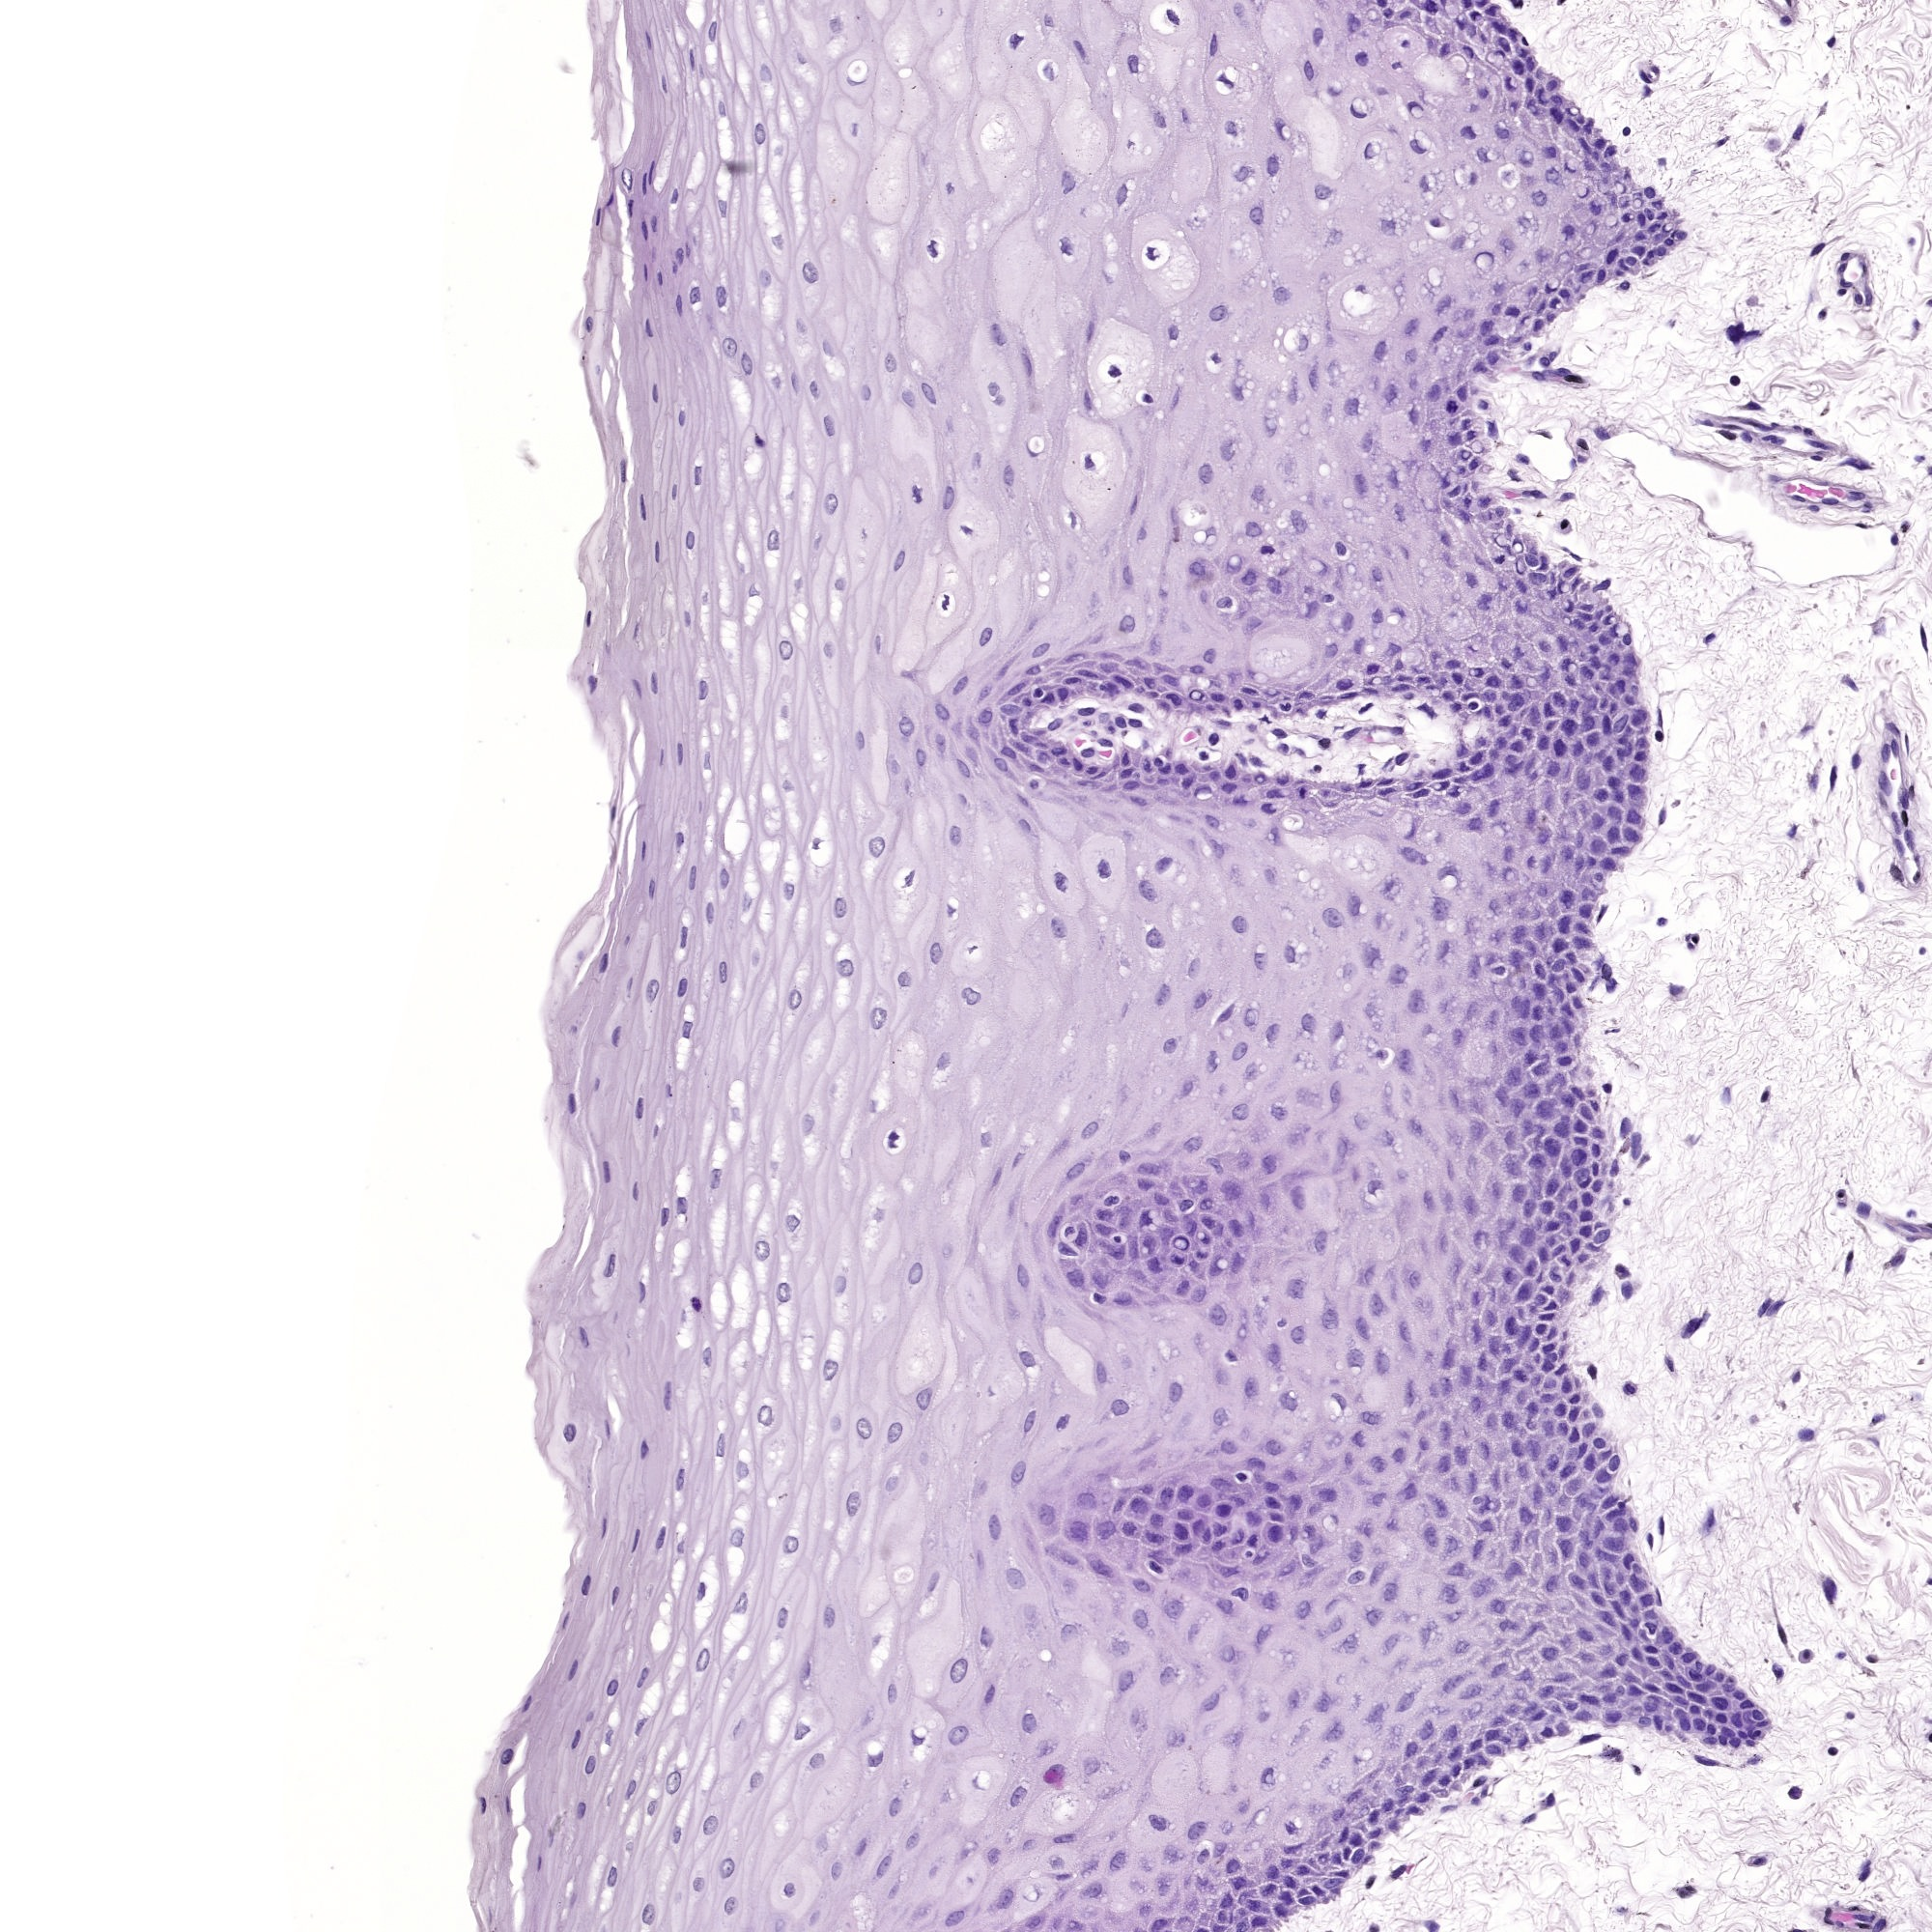epithelial: (950, 1916, 961, 1921), (656, 1537, 663, 1545), (1157, 117, 1162, 126), (1053, 1221, 1058, 1230), (1679, 1714, 1684, 1723), (931, 1580, 936, 1589), (1548, 152, 1555, 157), (1357, 481, 1362, 488), (1514, 699, 1522, 704), (1143, 890, 1150, 895), (1539, 989, 1545, 996), (1525, 1235, 1532, 1240), (1476, 1545, 1479, 1555), (1474, 1589, 1481, 1594), (1207, 1698, 1212, 1706), (1286, 1562, 1293, 1568), (1329, 1622, 1334, 1629), (1005, 1895, 1010, 1902), (982, 717, 991, 720), (1162, 993, 1166, 1001), (1122, 1403, 1125, 1412), (1522, 1391, 1525, 1399), (1573, 1410, 1576, 1419), (1587, 702, 1592, 708), (1539, 929, 1545, 934), (1576, 1090, 1582, 1095), (1550, 1187, 1555, 1192), (1594, 1184, 1599, 1189), (1546, 1205, 1552, 1210), (1016, 1154, 1021, 1159), (566, 1430, 571, 1435), (1060, 1419, 1065, 1424), (1516, 1445, 1522, 1451), (1152, 1537, 1157, 1543), (1182, 1514, 1187, 1520), (1162, 1890, 1168, 1895), (1334, 1730, 1339, 1736), (1279, 1909, 1284, 1914), (1371, 1812, 1376, 1817), (1352, 403, 1355, 410), (1090, 324, 1093, 331), (1568, 724, 1571, 731), (1619, 722, 1622, 729), (1527, 764, 1530, 771), (1159, 865, 1166, 869), (1529, 1085, 1532, 1092), (1097, 1276, 1100, 1283), (1097, 1368, 1100, 1375), (1270, 1445, 1274, 1453), (1522, 1288, 1525, 1295), (1422, 1440, 1426, 1447), (1583, 1713, 1591, 1716), (1507, 1622, 1514, 1626), (1270, 1499, 1274, 1506), (1403, 1698, 1407, 1706), (504, 1753, 508, 1760), (1272, 161, 1274, 172), (1571, 124, 1576, 127), (1539, 196, 1543, 202), (1541, 304, 1545, 310), (1442, 301, 1445, 306), (1279, 292, 1284, 295), (1026, 361, 1030, 366), (718, 294, 722, 299), (648, 329, 651, 334), (1573, 582, 1578, 586), (1504, 718, 1509, 722), (1474, 755, 1477, 761), (1440, 773, 1445, 777), (985, 632, 989, 637), (985, 686, 989, 692), (1001, 671, 1007, 674), (1016, 686, 1019, 692), (1238, 701, 1242, 706), (1187, 778, 1191, 784), (1007, 752, 1012, 755), (1122, 759, 1127, 763), (1198, 1000, 1201, 1005), (1290, 952, 1293, 957), (1415, 784, 1421, 787), (1582, 927, 1587, 931), (1575, 1001, 1580, 1005), (1568, 984, 1571, 989), (1534, 1031, 1539, 1035), (1539, 1067, 1545, 1070), (1566, 1097, 1571, 1100), (1550, 1145, 1553, 1150), (1594, 1146, 1598, 1152), (1534, 1161, 1539, 1164), (1583, 1180, 1587, 1185), (1516, 1191, 1520, 1196), (1511, 1166, 1514, 1171), (1587, 1214, 1591, 1219), (1601, 1235, 1605, 1240), (1447, 1196, 1451, 1201), (1415, 1125, 1419, 1131), (1277, 1111, 1283, 1115), (1070, 1169, 1076, 1173), (1102, 1214, 1108, 1217), (1159, 1198, 1162, 1203), (1207, 1223, 1212, 1226), (793, 1223, 796, 1228), (741, 1468, 747, 1472), (1384, 1357, 1387, 1362), (1560, 1428, 1566, 1431), (1560, 1523, 1566, 1527), (1499, 1605, 1502, 1610), (1667, 1635, 1670, 1640), (1529, 1629, 1534, 1633), (1274, 1532, 1277, 1537), (1237, 1499, 1240, 1504), (1077, 1529, 1081, 1534), (1449, 1683, 1453, 1688), (1375, 1711, 1378, 1716), (616, 1589, 617, 1599), (697, 1879, 701, 1884), (911, 1836, 915, 1842), (883, 1859, 886, 1865), (1290, 1826, 1293, 1831), (1479, 1759, 1484, 1762), (1720, 1739, 1725, 1743), (1748, 1741, 1753, 1744), (1438, 904, 1440, 913), (1555, 962, 1564, 964), (665, 1210, 667, 1219), (717, 1173, 718, 1182), (1016, 1468, 1017, 1477), (764, 73, 768, 76), (644, 228, 648, 232), (1065, 244, 1069, 248), (1322, 191, 1325, 195), (1384, 4, 1387, 7), (1490, 9, 1493, 12), (1647, 191, 1651, 195), (1583, 274, 1587, 278), (1562, 292, 1566, 295), (1537, 320, 1539, 327), (1219, 311, 1223, 315), (998, 331, 1000, 338), (908, 400, 911, 403), (890, 363, 893, 366), (828, 421, 830, 428), (824, 343, 826, 350), (916, 494, 920, 497), (1461, 513, 1465, 517), (1568, 571, 1571, 575), (1596, 660, 1599, 663), (1585, 669, 1589, 672), (1629, 660, 1633, 663), (1456, 676, 1460, 679), (1509, 759, 1511, 766), (1553, 764, 1555, 771), (1583, 778, 1585, 786), (1640, 741, 1644, 745), (939, 709, 943, 713), (1251, 690, 1254, 694), (1127, 771, 1131, 775), (1129, 782, 1132, 786), (591, 683, 593, 690), (679, 750, 681, 757), (1054, 925, 1058, 929), (1336, 918, 1339, 922), (1265, 809, 1269, 812), (1412, 853, 1415, 856), (1398, 973, 1401, 977), (1530, 862, 1534, 865), (1548, 860, 1550, 867), (1568, 849, 1569, 856), (1629, 832, 1633, 835), (1580, 941, 1587, 943), (1605, 970, 1606, 977), (1518, 1005, 1522, 1008), (1560, 1047, 1562, 1054), (1552, 1224, 1555, 1228), (1456, 1095, 1458, 1102), (1267, 1162, 1270, 1166), (1297, 1192, 1299, 1200), (1215, 1162, 1219, 1166), (1192, 1143, 1196, 1146), (616, 1031, 617, 1039), (913, 1270, 916, 1274), (1072, 1276, 1076, 1279), (1115, 1253, 1118, 1256), (1154, 1265, 1157, 1269), (1511, 1253, 1514, 1256), (1564, 1258, 1568, 1261), (1476, 1329, 1477, 1336), (1509, 1322, 1511, 1329), (1539, 1327, 1543, 1330), (1552, 1306, 1555, 1309), (1569, 1276, 1573, 1279), (1571, 1399, 1578, 1401), (1447, 1384, 1449, 1391), (1417, 1412, 1421, 1415), (1490, 1424, 1493, 1428), (1571, 1484, 1575, 1488), (1562, 1500, 1566, 1504), (1706, 1683, 1709, 1686), (1566, 1674, 1569, 1677), (1546, 1688, 1550, 1691), (1587, 1698, 1591, 1702), (1744, 1702, 1748, 1706), (1437, 1504, 1440, 1507), (1391, 1520, 1392, 1527), (1355, 1548, 1357, 1555), (1288, 1472, 1290, 1479), (1100, 1529, 1108, 1530), (1129, 1527, 1131, 1534), (1261, 1633, 1265, 1637), (1270, 1599, 1274, 1603), (993, 1520, 994, 1527), (584, 1583, 586, 1591), (646, 1913, 648, 1920), (755, 1778, 759, 1782), (893, 1891, 897, 1895), (991, 1852, 993, 1859), (1116, 1859, 1118, 1867), (1157, 1821, 1161, 1824), (1159, 1923, 1162, 1927), (1300, 1891, 1304, 1895), (1336, 1812, 1339, 1815), (1426, 1775, 1430, 1778), (1490, 1750, 1497, 1752), (1725, 1730, 1729, 1734), (810, 269, 812, 274), (1253, 214, 1258, 216), (1307, 67, 1309, 73), (1555, 113, 1557, 119), (1654, 225, 1656, 230), (1624, 264, 1626, 269), (1486, 324, 1488, 329), (747, 361, 748, 366), (695, 292, 697, 297), (655, 391, 656, 396), (947, 497, 948, 502), (1007, 474, 1012, 476), (1530, 561, 1536, 563), (1545, 563, 1546, 568), (1573, 704, 1575, 709), (1532, 713, 1534, 718), (1514, 679, 1516, 685), (1468, 695, 1474, 697), (1606, 722, 1608, 727), (1576, 747, 1578, 752), (1559, 743, 1560, 748), (1635, 773, 1637, 778), (1127, 623, 1129, 628), (906, 674, 911, 676), (1231, 784, 1233, 789), (1021, 748, 1026, 750), (603, 959, 605, 964), (683, 985, 685, 991), (957, 833, 959, 839), (1060, 879, 1062, 885), (1384, 782, 1389, 784), (1419, 793, 1424, 794), (1474, 823, 1476, 828), (1592, 847, 1594, 853), (1545, 1109, 1550, 1111), (1123, 1154, 1125, 1159), (1099, 1231, 1104, 1233), (1074, 1196, 1076, 1201), (609, 1265, 610, 1270), (893, 1430, 895, 1435), (1251, 1389, 1253, 1394), (1378, 1304, 1380, 1309), (1477, 1263, 1479, 1269), (1529, 1265, 1534, 1267), (1552, 1274, 1557, 1276), (1509, 1274, 1511, 1279), (1483, 1361, 1484, 1366), (1522, 1376, 1527, 1378), (1548, 1364, 1550, 1369), (1449, 1357, 1451, 1362), (1359, 1440, 1361, 1445), (1398, 1456, 1403, 1458), (1566, 1468, 1568, 1474), (1523, 1468, 1525, 1474), (1514, 1541, 1516, 1546), (1530, 1536, 1532, 1541), (1566, 1546, 1568, 1552), (1274, 1516, 1279, 1518), (1253, 1514, 1254, 1520), (1184, 1490, 1185, 1495), (1086, 1499, 1088, 1504), (1293, 1697, 1295, 1702), (1010, 1573, 1012, 1578), (980, 1559, 982, 1564), (984, 1637, 985, 1642), (679, 1477, 681, 1483), (612, 1875, 614, 1881), (955, 1670, 957, 1675), (1063, 1838, 1069, 1840), (1258, 1921, 1263, 1923), (1267, 1890, 1272, 1891), (1288, 1849, 1293, 1851), (1454, 1750, 1456, 1755), (1454, 1769, 1456, 1775), (648, 39, 649, 42), (761, 131, 763, 134), (835, 21, 837, 25), (649, 172, 651, 175), (598, 216, 600, 219), (646, 271, 648, 274), (1131, 60, 1132, 64), (1184, 115, 1185, 119), (1240, 173, 1244, 175), (1120, 195, 1122, 198), (1352, 23, 1355, 25), (1387, 226, 1389, 230), (1405, 42, 1408, 44), (1405, 14, 1408, 16), (1444, 48, 1445, 51), (1468, 131, 1470, 134), (1534, 104, 1536, 108), (1585, 145, 1587, 149), (1610, 150, 1614, 152), (1640, 218, 1642, 221), (1661, 214, 1663, 218), (1638, 235, 1640, 239), (1619, 271, 1622, 272), (1670, 241, 1672, 244), (1679, 235, 1683, 237), (1553, 299, 1555, 303), (1511, 310, 1514, 311), (1438, 333, 1440, 336), (1389, 393, 1392, 395), (1433, 391, 1435, 395), (1463, 395, 1465, 398), (1086, 398, 1088, 402), (931, 391, 932, 395), (867, 391, 869, 395), (814, 389, 816, 393), (642, 506, 644, 510), (897, 561, 899, 564), (1444, 538, 1445, 541), (1378, 575, 1380, 579), (1348, 617, 1350, 621), (1378, 612, 1380, 616), (1484, 602, 1486, 605), (1520, 586, 1523, 587), (1626, 639, 1628, 642), (1583, 607, 1587, 609), (1583, 616, 1587, 617), (1545, 646, 1546, 649), (1506, 663, 1507, 667), (1603, 702, 1605, 706), (1495, 681, 1497, 685), (1445, 697, 1449, 699), (1552, 722, 1553, 725), (1591, 740, 1592, 743), (1461, 748, 1463, 752), (1622, 741, 1626, 743), (1622, 752, 1626, 754), (1481, 771, 1484, 773), (1039, 649, 1040, 653), (961, 685, 962, 688), (938, 740, 941, 741), (1001, 764, 1003, 768), (973, 732, 975, 736), (1007, 709, 1010, 711), (1026, 701, 1028, 704), (1106, 688, 1108, 692), (1148, 679, 1150, 683), (1162, 702, 1164, 706), (1217, 697, 1221, 699), (1215, 775, 1217, 778), (1162, 768, 1166, 770), (1040, 743, 1042, 747), (1056, 750, 1060, 752), (1042, 755, 1044, 759), (1035, 768, 1039, 770), (1076, 764, 1077, 768), (702, 690, 704, 694), (725, 878, 727, 881), (936, 948, 938, 952), (1083, 780, 1086, 782), (1136, 798, 1139, 800), (1214, 842, 1215, 846), (1194, 968, 1196, 971), (1304, 791, 1306, 794), (1384, 791, 1387, 793), (1371, 955, 1373, 959), (1353, 902, 1355, 906), (1463, 807, 1465, 810), (1522, 915, 1523, 918), (1585, 908, 1587, 911), (1520, 1033, 1522, 1037), (1566, 1058, 1568, 1062), (1587, 1111, 1589, 1115), (1560, 1127, 1562, 1131), (1582, 1141, 1585, 1143), (1578, 1157, 1582, 1159), (1594, 1168, 1596, 1171), (1529, 1205, 1530, 1208), (1509, 1136, 1511, 1139), (1587, 1231, 1589, 1235), (1575, 1244, 1576, 1247), (1431, 1198, 1433, 1201), (1272, 1031, 1274, 1035), (1320, 1240, 1322, 1244), (1088, 1127, 1090, 1131), (1083, 1235, 1085, 1238), (1145, 1166, 1148, 1168), (985, 1138, 987, 1141), (571, 1102, 573, 1106), (922, 1398, 924, 1401), (1122, 1297, 1125, 1299), (1177, 1258, 1180, 1260), (1028, 1421, 1030, 1424), (1177, 1391, 1178, 1394), (1221, 1373, 1223, 1376), (1295, 1286, 1297, 1290), (1330, 1316, 1332, 1320), (1362, 1325, 1364, 1329), (1414, 1276, 1415, 1279), (1405, 1332, 1407, 1336), (1559, 1247, 1562, 1249), (1488, 1316, 1490, 1320), (1525, 1334, 1527, 1338), (1560, 1368, 1562, 1371), (1568, 1387, 1569, 1391), (1560, 1408, 1562, 1412), (1546, 1396, 1548, 1399), (1463, 1373, 1465, 1376), (1511, 1421, 1514, 1422), (1532, 1445, 1534, 1449), (1591, 1460, 1592, 1463), (1548, 1488, 1552, 1490), (1495, 1479, 1497, 1483), (1598, 1525, 1599, 1529), (1583, 1537, 1587, 1539), (1615, 1511, 1617, 1514), (1610, 1500, 1612, 1504), (1647, 1614, 1651, 1615), (1617, 1605, 1619, 1608), (1606, 1583, 1608, 1587), (1608, 1617, 1610, 1621), (1649, 1645, 1652, 1647), (1698, 1665, 1702, 1667), (1695, 1675, 1698, 1677), (1709, 1668, 1711, 1672), (1727, 1688, 1730, 1690), (1548, 1652, 1550, 1656), (1693, 1697, 1697, 1698), (1723, 1702, 1725, 1706), (1720, 1718, 1723, 1720), (1555, 1706, 1557, 1709), (1500, 1667, 1504, 1668), (1430, 1530, 1431, 1534), (1327, 1495, 1330, 1497), (1203, 1499, 1205, 1502), (1136, 1504, 1138, 1507), (1157, 1518, 1161, 1520), (1180, 1534, 1182, 1537), (1200, 1527, 1201, 1530), (1219, 1529, 1221, 1532), (1104, 1568, 1108, 1569), (1141, 1587, 1145, 1589), (1125, 1679, 1127, 1683), (1449, 1589, 1451, 1592), (1062, 1553, 1065, 1555), (801, 1672, 805, 1674), (637, 1536, 639, 1539), (571, 1668, 573, 1672), (527, 1704, 529, 1707), (642, 1674, 644, 1677), (609, 1736, 610, 1739), (579, 1808, 580, 1812), (862, 1844, 863, 1847), (893, 1691, 895, 1695), (1062, 1875, 1065, 1877), (1196, 1831, 1200, 1833), (1240, 1927, 1242, 1930), (1226, 1900, 1230, 1902), (1253, 1904, 1256, 1905), (1286, 1897, 1288, 1900), (1343, 1874, 1346, 1875), (1338, 1856, 1339, 1859), (1373, 1833, 1376, 1835), (1408, 1748, 1412, 1750), (1422, 1729, 1426, 1730), (1474, 1744, 1477, 1746), (1520, 1739, 1522, 1743), (1497, 1723, 1500, 1725), (1698, 1725, 1702, 1727), (1713, 1727, 1714, 1730), (801, 58, 803, 60), (653, 223, 655, 225), (766, 276, 768, 278), (1077, 46, 1079, 48), (1230, 127, 1231, 129), (1318, 35, 1320, 37), (1389, 12, 1391, 14), (1431, 5, 1433, 7), (1472, 12, 1474, 14), (1500, 28, 1502, 30), (1523, 41, 1525, 42), (1509, 85, 1511, 87), (1557, 97, 1559, 99), (1580, 119, 1582, 120), (1552, 175, 1553, 177), (1649, 214, 1651, 216), (1656, 205, 1658, 207), (1661, 249, 1663, 251), (1583, 265, 1585, 267), (1412, 354, 1414, 356), (1451, 405, 1453, 407), (656, 552, 658, 554), (968, 529, 970, 531), (1134, 506, 1136, 508), (1454, 492, 1456, 494), (1467, 502, 1468, 504), (1484, 502, 1486, 504), (1399, 511, 1401, 513), (1564, 663, 1566, 665), (1612, 658, 1614, 660), (1622, 683, 1624, 685), (1612, 690, 1614, 692), (1557, 697, 1559, 699), (1453, 663, 1454, 665), (1499, 708, 1500, 709), (1629, 701, 1631, 702), (1493, 754, 1495, 755), (1608, 763, 1610, 764), (1640, 757, 1642, 759), (1463, 768, 1465, 770), (961, 768, 962, 770), (1033, 671, 1035, 672), (1072, 681, 1074, 683), (1134, 662, 1136, 663), (1161, 667, 1162, 669), (1175, 699, 1177, 701), (1332, 649, 1334, 651), (1180, 768, 1182, 770), (1090, 770, 1092, 771), (1099, 773, 1100, 775), (832, 649, 833, 651), (637, 686, 639, 688), (839, 908, 840, 909), (906, 978, 908, 980), (874, 846, 876, 847), (973, 996, 975, 998), (1157, 939, 1159, 941), (1237, 922, 1238, 924), (1261, 961, 1263, 962), (1274, 793, 1276, 794), (1269, 876, 1270, 878), (1454, 793, 1456, 794), (1530, 814, 1532, 816), (1635, 791, 1637, 793), (1599, 793, 1601, 794), (1591, 862, 1592, 863), (1608, 863, 1610, 865), (1566, 897, 1568, 899), (1529, 947, 1530, 948), (1541, 971, 1543, 973), (1569, 957, 1571, 959), (1566, 1008, 1568, 1010), (1555, 1033, 1557, 1035), (1566, 1023, 1568, 1024), (1502, 1095, 1504, 1097), (1582, 1127, 1583, 1129), (1527, 1127, 1529, 1129), (1564, 1214, 1566, 1215), (1343, 1146, 1345, 1148), (996, 1173, 998, 1175), (639, 1106, 640, 1108), (584, 1336, 586, 1338), (1024, 1274, 1026, 1276), (1063, 1246, 1065, 1247), (1182, 1288, 1184, 1290), (1196, 1292, 1198, 1293), (1543, 1253, 1545, 1254), (1548, 1288, 1550, 1290), (1548, 1348, 1550, 1350), (1553, 1357, 1555, 1359), (1546, 1428, 1548, 1430), (1598, 1444, 1599, 1445), (1486, 1527, 1488, 1529), (1536, 1495, 1537, 1497), (1635, 1583, 1637, 1585), (1647, 1599, 1649, 1601), (1635, 1654, 1637, 1656), (1667, 1661, 1668, 1663), (1674, 1645, 1675, 1647), (1651, 1688, 1652, 1690), (1610, 1674, 1612, 1675), (1583, 1635, 1585, 1637), (1568, 1704, 1569, 1706), (1608, 1697, 1610, 1698), (1757, 1714, 1759, 1716), (1644, 1720, 1645, 1721), (1537, 1714, 1539, 1716), (1525, 1675, 1527, 1677), (1472, 1691, 1474, 1693), (1408, 1488, 1410, 1490), (1120, 1504, 1122, 1506), (1168, 1675, 1169, 1677), (1375, 1614, 1376, 1615), (1320, 1700, 1322, 1702), (1044, 1514, 1046, 1516), (563, 1622, 564, 1624), (577, 1737, 579, 1739), (835, 1872, 837, 1874), (1056, 1769, 1058, 1771), (1134, 1716, 1136, 1718), (1223, 1918, 1224, 1920), (1272, 1872, 1274, 1874), (1316, 1890, 1318, 1891), (1300, 1870, 1302, 1872), (1330, 1882, 1332, 1884), (1346, 1851, 1348, 1852), (1361, 1852, 1362, 1854), (1355, 1836, 1357, 1838), (1343, 1833, 1345, 1835), (1352, 1794, 1353, 1796), (1387, 1806, 1389, 1808), (1453, 1734, 1454, 1736), (1467, 1762, 1468, 1764), (1493, 1734, 1495, 1736), (1711, 1739, 1713, 1741), (1757, 1732, 1759, 1734)
fibroblast and endothelial: (1668, 1361, 1674, 1368), (1874, 1417, 1881, 1422), (1750, 421, 1757, 425), (1053, 722, 1060, 725), (1895, 814, 1898, 821), (1750, 403, 1755, 407), (1364, 708, 1369, 711), (1086, 752, 1090, 757), (1693, 1323, 1698, 1327), (1895, 1260, 1898, 1265), (1430, 1925, 1435, 1928), (1599, 584, 1608, 586), (1598, 1290, 1599, 1299), (1583, 1737, 1592, 1739), (1817, 444, 1821, 448), (1746, 437, 1750, 441), (1706, 423, 1713, 425), (1856, 761, 1859, 764), (1428, 708, 1431, 711), (1346, 736, 1350, 740), (1782, 1633, 1785, 1637), (1476, 1780, 1479, 1783), (1444, 1806, 1447, 1810), (1725, 433, 1730, 435), (1730, 426, 1736, 428), (1707, 637, 1713, 639), (1253, 761, 1258, 763), (1859, 885, 1861, 890), (1905, 816, 1907, 821), (1911, 837, 1913, 842), (1907, 1226, 1913, 1228), (1909, 1237, 1911, 1242), (1622, 1127, 1628, 1129), (1778, 1668, 1780, 1674), (1398, 1867, 1399, 1872), (1645, 78, 1647, 81), (1844, 281, 1845, 285), (1573, 377, 1576, 379), (1552, 354, 1555, 356), (1601, 433, 1603, 437), (1582, 444, 1585, 446), (1523, 458, 1527, 460), (1536, 494, 1537, 497), (1858, 495, 1861, 497), (1893, 725, 1895, 729), (1279, 732, 1283, 734), (1394, 729, 1398, 731), (1399, 757, 1401, 761), (1240, 755, 1242, 759), (1120, 720, 1122, 724), (1893, 870, 1895, 874), (1897, 842, 1898, 846), (1881, 798, 1882, 801), (1902, 794, 1904, 798), (1911, 787, 1913, 791), (1614, 1169, 1615, 1173), (1773, 1306, 1776, 1307), (1826, 1587, 1829, 1589), (1870, 1658, 1872, 1661), (1868, 1668, 1870, 1672), (1474, 1799, 1477, 1801), (1828, 1921, 1831, 1923), (1863, 1925, 1867, 1927), (1863, 1916, 1867, 1918), (1654, 69, 1656, 71), (1821, 246, 1822, 248), (1842, 267, 1844, 269), (1865, 269, 1867, 271), (1537, 375, 1539, 377), (1546, 435, 1548, 437), (1483, 402, 1484, 403), (1493, 432, 1495, 433), (1527, 492, 1529, 494), (1575, 554, 1576, 556), (1798, 497, 1799, 499), (1813, 508, 1815, 510), (1831, 501, 1833, 502), (1895, 538, 1897, 540), (1861, 525, 1863, 527), (1849, 683, 1851, 685), (1895, 748, 1897, 750), (1223, 722, 1224, 724), (1299, 752, 1300, 754), (1136, 708, 1138, 709), (1088, 711, 1090, 713), (1916, 874, 1918, 876), (1635, 1152, 1637, 1154), (1764, 1307, 1766, 1309), (1796, 1376, 1798, 1378), (1874, 1440, 1875, 1442), (1840, 1654, 1842, 1656), (1651, 1537, 1652, 1539), (1484, 1790, 1486, 1792), (1863, 1874, 1865, 1875), (1826, 1911, 1828, 1913), (1838, 1925, 1840, 1927), (1881, 1923, 1882, 1925)
inflammatory: (1316, 768, 1320, 771), (1141, 1219, 1145, 1223), (1628, 1385, 1631, 1389), (1322, 743, 1327, 745), (1785, 18, 1787, 21), (1718, 140, 1720, 143), (1214, 738, 1215, 741), (1840, 1194, 1842, 1196)
lymphocyte: (932, 249, 938, 255), (1016, 37, 1019, 41), (1088, 460, 1090, 467), (1157, 761, 1161, 764), (1605, 1085, 1608, 1088), (1307, 1559, 1311, 1562), (1357, 1576, 1361, 1580), (1543, 359, 1545, 364), (1127, 573, 1129, 579), (1267, 548, 1272, 550), (1074, 518, 1076, 524), (1201, 1854, 1203, 1859), (1171, 14, 1173, 18), (1626, 129, 1628, 133), (1730, 379, 1734, 380), (1113, 368, 1115, 372), (1223, 603, 1224, 607), (1660, 736, 1661, 740), (1882, 782, 1886, 784), (1472, 706, 1476, 708), (1037, 690, 1039, 694), (1067, 1230, 1070, 1231), (892, 1136, 893, 1139), (1619, 1504, 1621, 1507), (1548, 1729, 1550, 1732), (1831, 1752, 1833, 1755), (1840, 292, 1842, 294), (1215, 359, 1217, 361), (759, 441, 761, 442), (1196, 570, 1198, 571), (1339, 548, 1341, 550), (1327, 598, 1329, 600), (1286, 706, 1288, 708), (945, 600, 947, 602), (1035, 784, 1037, 786), (1599, 876, 1601, 878), (1499, 970, 1500, 971), (1380, 1054, 1382, 1056), (1116, 1240, 1118, 1242), (1185, 1203, 1187, 1205), (1242, 1477, 1244, 1479), (1230, 1355, 1231, 1357), (1651, 1628, 1652, 1629), (1159, 1568, 1161, 1569)
